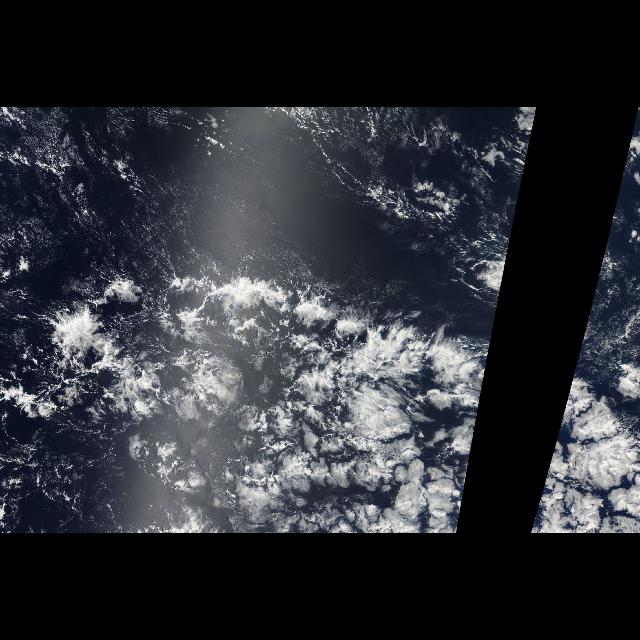Flower: (46, 294, 462, 532)
Gravel: (22, 113, 526, 439)
Sugar: (2, 110, 232, 272)
